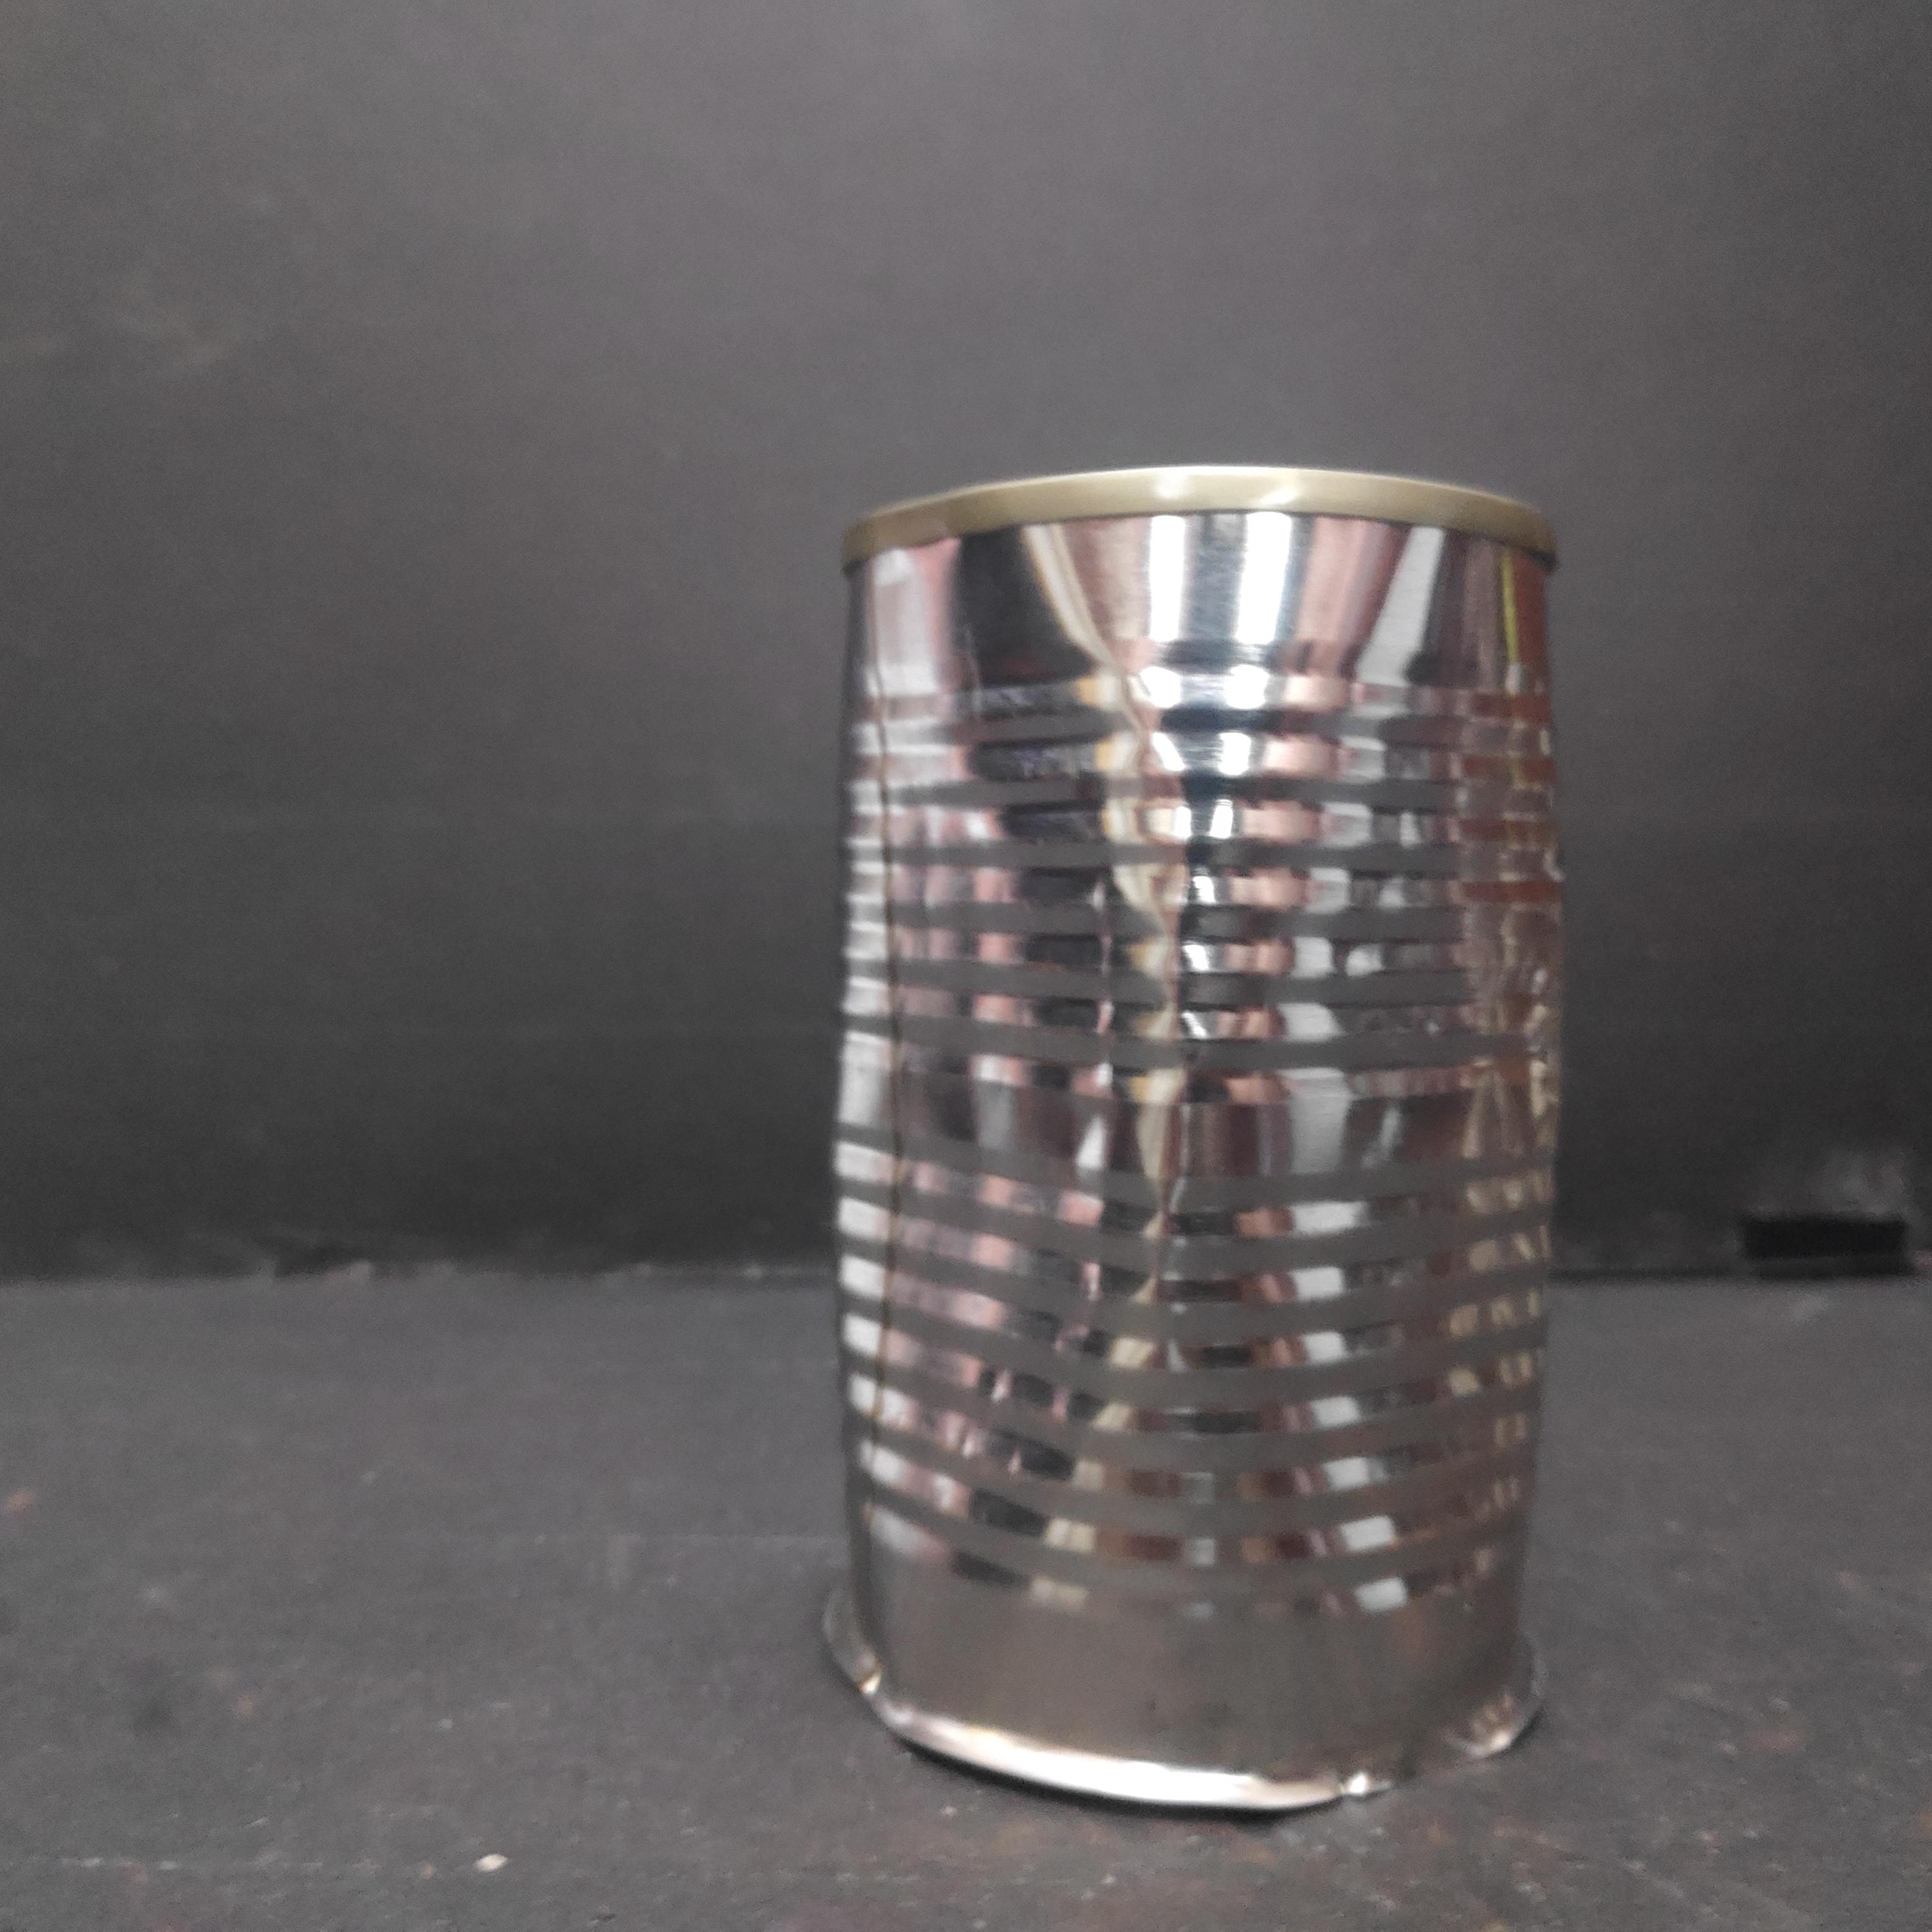Minor Defect: (809, 455, 1583, 1826)
